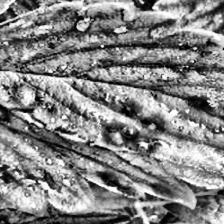Leaf Spot: (0, 0, 224, 218)
